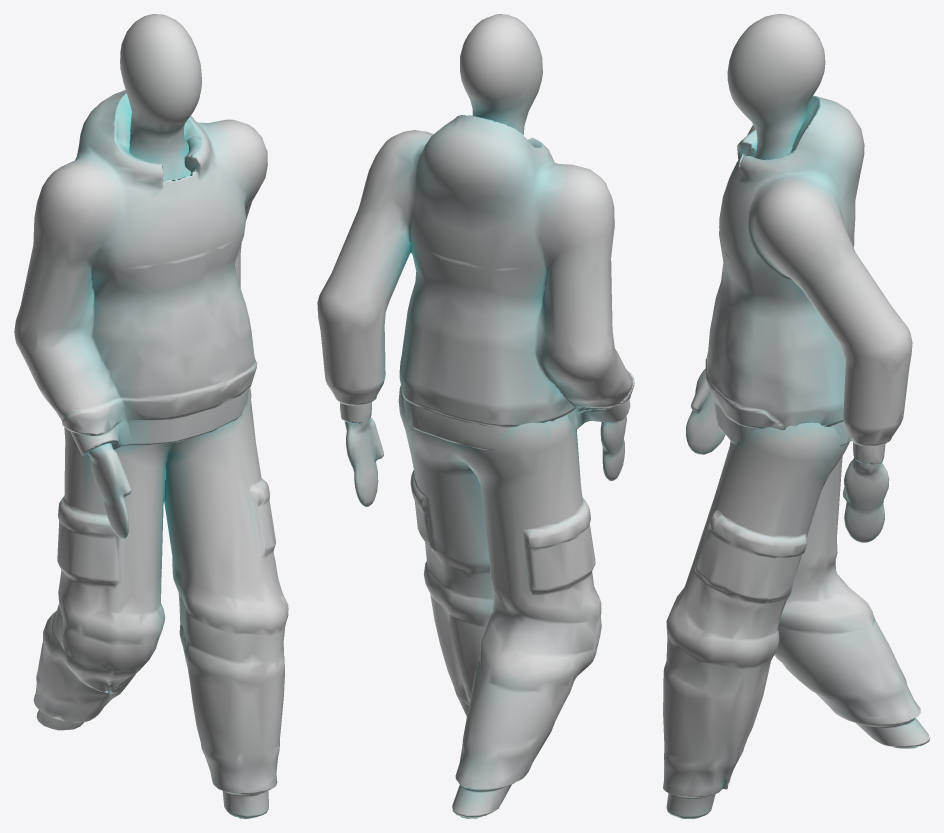
Rendered from mannequin-street.glb.
3 renders of one model, left to right at view 1: azimuth 30°, elevation 25°; view 2: azimuth 150°, elevation 25°; view 3: azimuth 270°, elevation 25°, orthographic.
Parts seen in each view (by area): view 1: hoodie, cargos, body; view 2: hoodie, cargos, body; view 3: cargos, hoodie, body.
Boxes of the visible parts, x1,y1,x2,y2 form: hoodie: (14,90,267,455); cargos: (33,387,288,817); body: (88,14,257,818); hoodie: (317,115,634,449); cargos: (398,385,601,817); body: (344,14,626,818); cargos: (663,422,929,817); hoodie: (705,95,912,464); body: (678,14,922,818).
Size of the model in its own units: 0.6026 by 1.75 by 0.5463.
